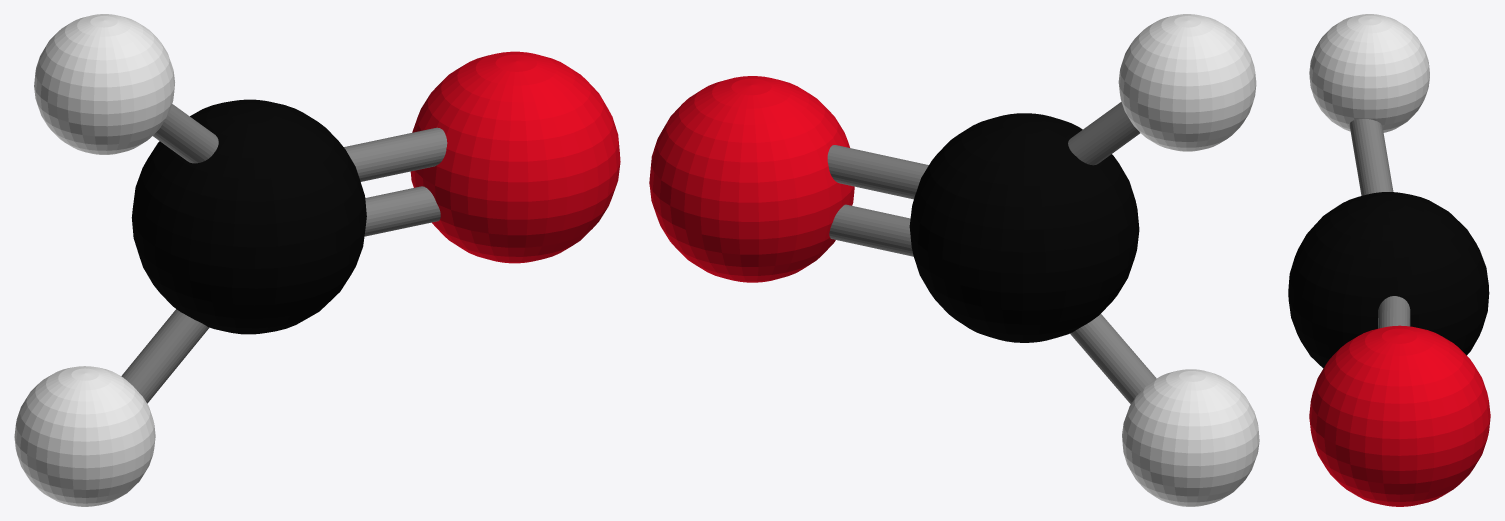
The picture shows the model from 3 angles, left to right: view 1: azimuth 30°, elevation 25°; view 2: azimuth 150°, elevation 25°; view 3: azimuth 270°, elevation 25°; orthographic projection. The views are drawn at different scales.
Parts seen in each view (by area): view 1: Sphere, кислород двойной.001, Sphere.001, Sphere.002, Cylinder.001, Sphere.003, Cylinder.006, Sphere.004; view 2: Sphere, кислород двойной.001, Sphere.002, Sphere.001, Cylinder.001, Sphere.003, Cylinder.006, Sphere.004; view 3: кислород двойной.001, Sphere, Sphere.002, Sphere.004, Cylinder.001.
Part boxes in pixels (<box>): Sphere: <box>131,99,366,334</box>; кислород двойной.001: <box>410,51,620,263</box>; Sphere.001: <box>14,366,155,506</box>; Sphere.002: <box>34,14,174,154</box>; Cylinder.001: <box>344,127,447,181</box>; Sphere.003: <box>121,309,209,403</box>; Cylinder.006: <box>364,186,440,236</box>; Sphere.004: <box>153,104,218,163</box>; Sphere: <box>909,113,1139,342</box>; кислород двойной.001: <box>649,76,854,282</box>; Sphere.002: <box>1118,14,1256,151</box>; Sphere.001: <box>1122,369,1259,506</box>; Cylinder.001: <box>827,145,928,199</box>; Sphere.003: <box>1070,314,1156,404</box>; Cylinder.006: <box>829,204,913,256</box>; Sphere.004: <box>1068,102,1140,165</box>; кислород двойной.001: <box>1309,325,1490,506</box>; Sphere: <box>1288,192,1489,368</box>; Sphere.002: <box>1309,14,1429,132</box>; Sphere.004: <box>1349,119,1393,195</box>; Cylinder.001: <box>1378,296,1410,328</box>.
Bounding box in the file's own units: 2.9 × 2.26 × 1.
